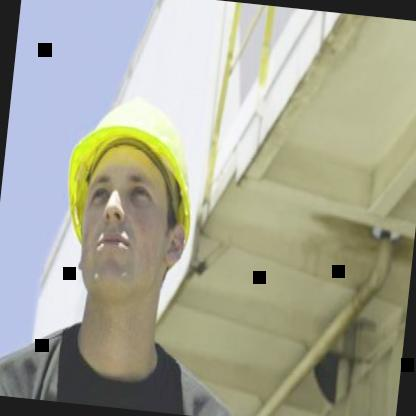helmet: (33, 43, 232, 364)
